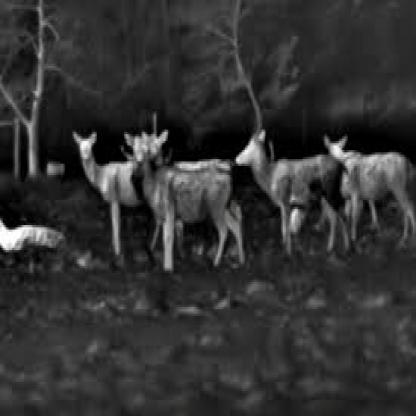rehkitze: (134, 125, 245, 270), (245, 125, 337, 260), (341, 126, 414, 253), (71, 129, 133, 261), (45, 158, 65, 175)
